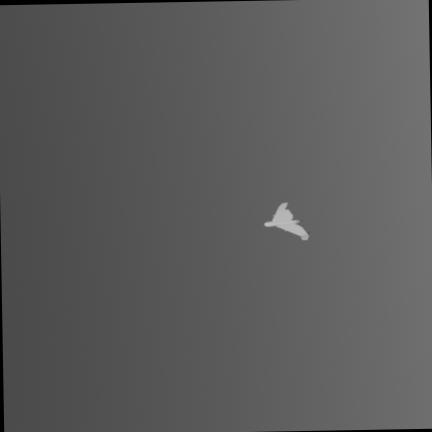Shahed: (264, 202, 308, 239)
